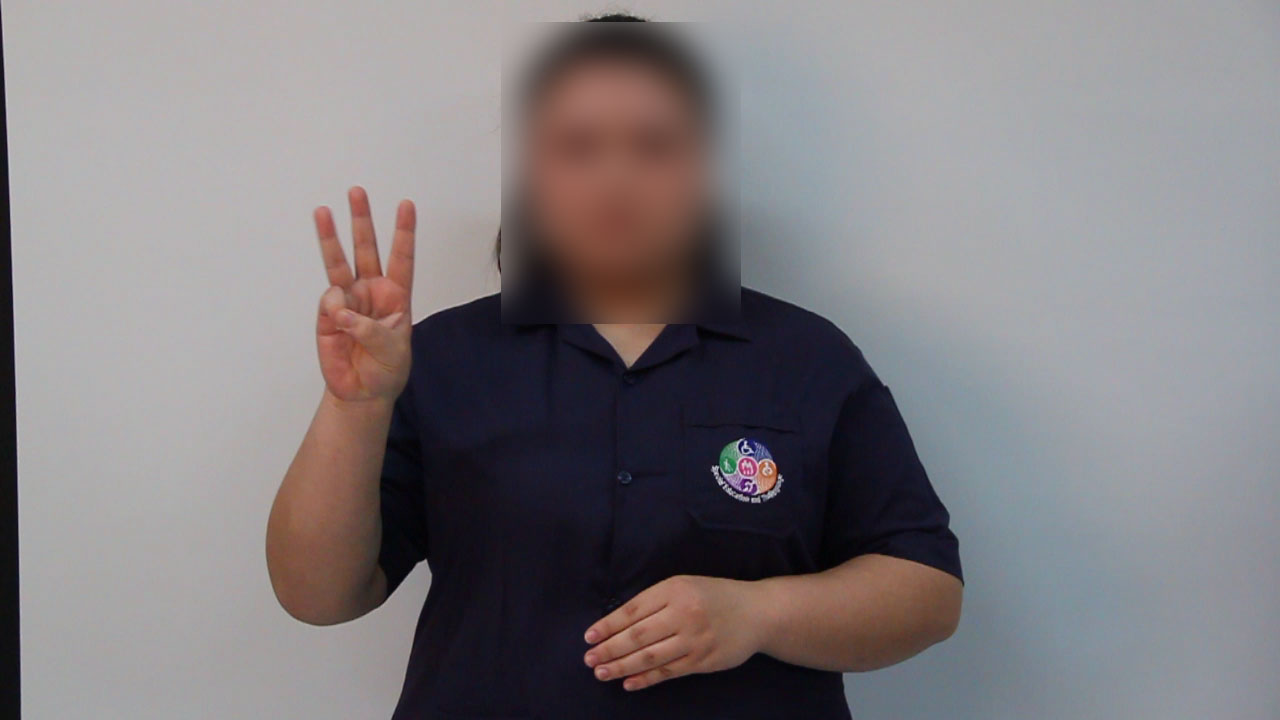wor: (300, 176, 424, 414)
